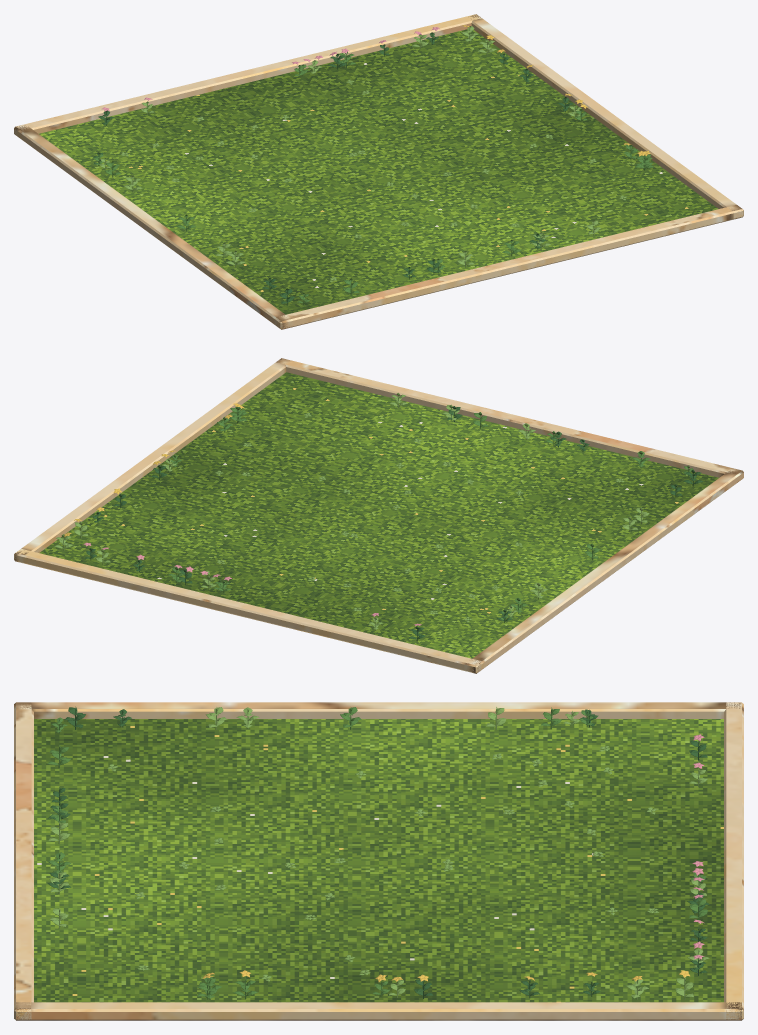
3 renders of one model, top to bottom at view 1: azimuth 30°, elevation 25°; view 2: azimuth 150°, elevation 25°; view 3: azimuth 270°, elevation 25°, orthographic. The views are drawn at different scales.
Parts seen in each view (by area): view 1: ground_grass, seaside_stone, house_paint; view 2: ground_grass, seaside_stone, house_paint; view 3: ground_grass, seaside_stone, house_paint.
Boxes of the visible parts, <box> form: ground_grass: <box>39,29,718,314</box>; seaside_stone: <box>14,14,743,329</box>; house_paint: <box>93,25,653,305</box>; ground_grass: <box>39,372,718,658</box>; seaside_stone: <box>14,358,743,673</box>; house_paint: <box>54,393,703,641</box>; ground_grass: <box>34,719,723,1002</box>; seaside_stone: <box>14,702,743,1020</box>; house_paint: <box>47,706,709,999</box>.
Bounding box in the file's own units: 5.14 × 0.217 × 5.14.
3 materials, 3 textured.
